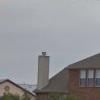Chimney: (34, 45, 53, 84)
